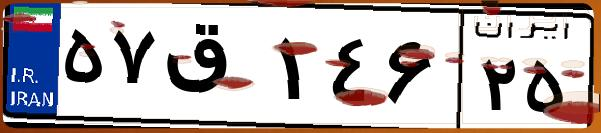1: (270, 28, 330, 110)
2: (475, 38, 525, 113)
4: (330, 28, 385, 110)
5: (57, 26, 110, 100), (525, 38, 570, 115)
6: (385, 28, 445, 110)
7: (110, 28, 158, 98)
ق: (158, 20, 270, 120)
